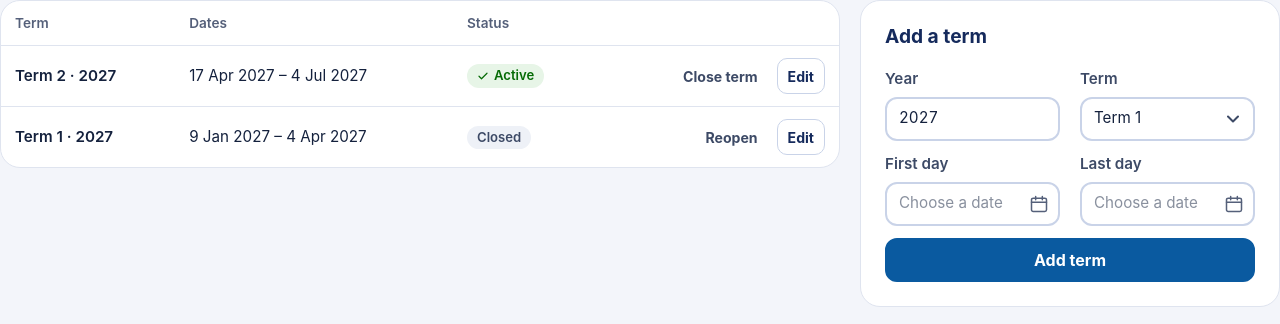
undoing a status (BR-24) › reopens a closed term from its row
The image size is (1280, 324).
Click the button "Reopen": (732, 137) [694,119,769,155]
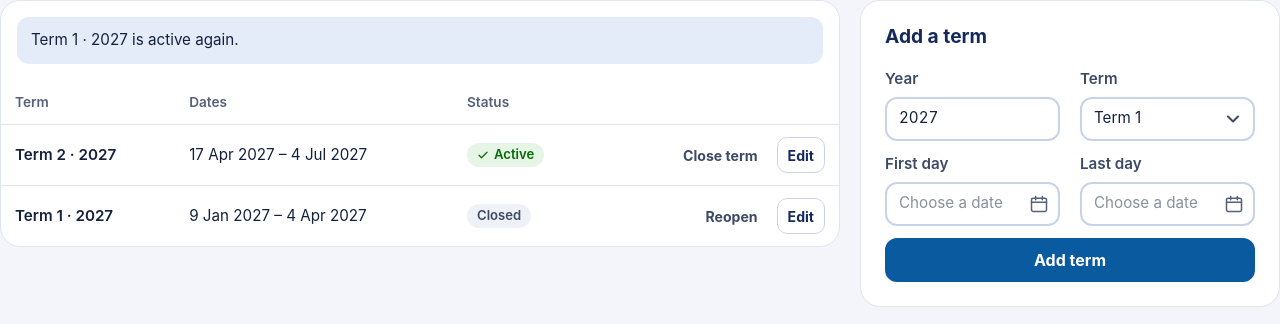
Now the message shows "active again", box [31,30,239,49]
